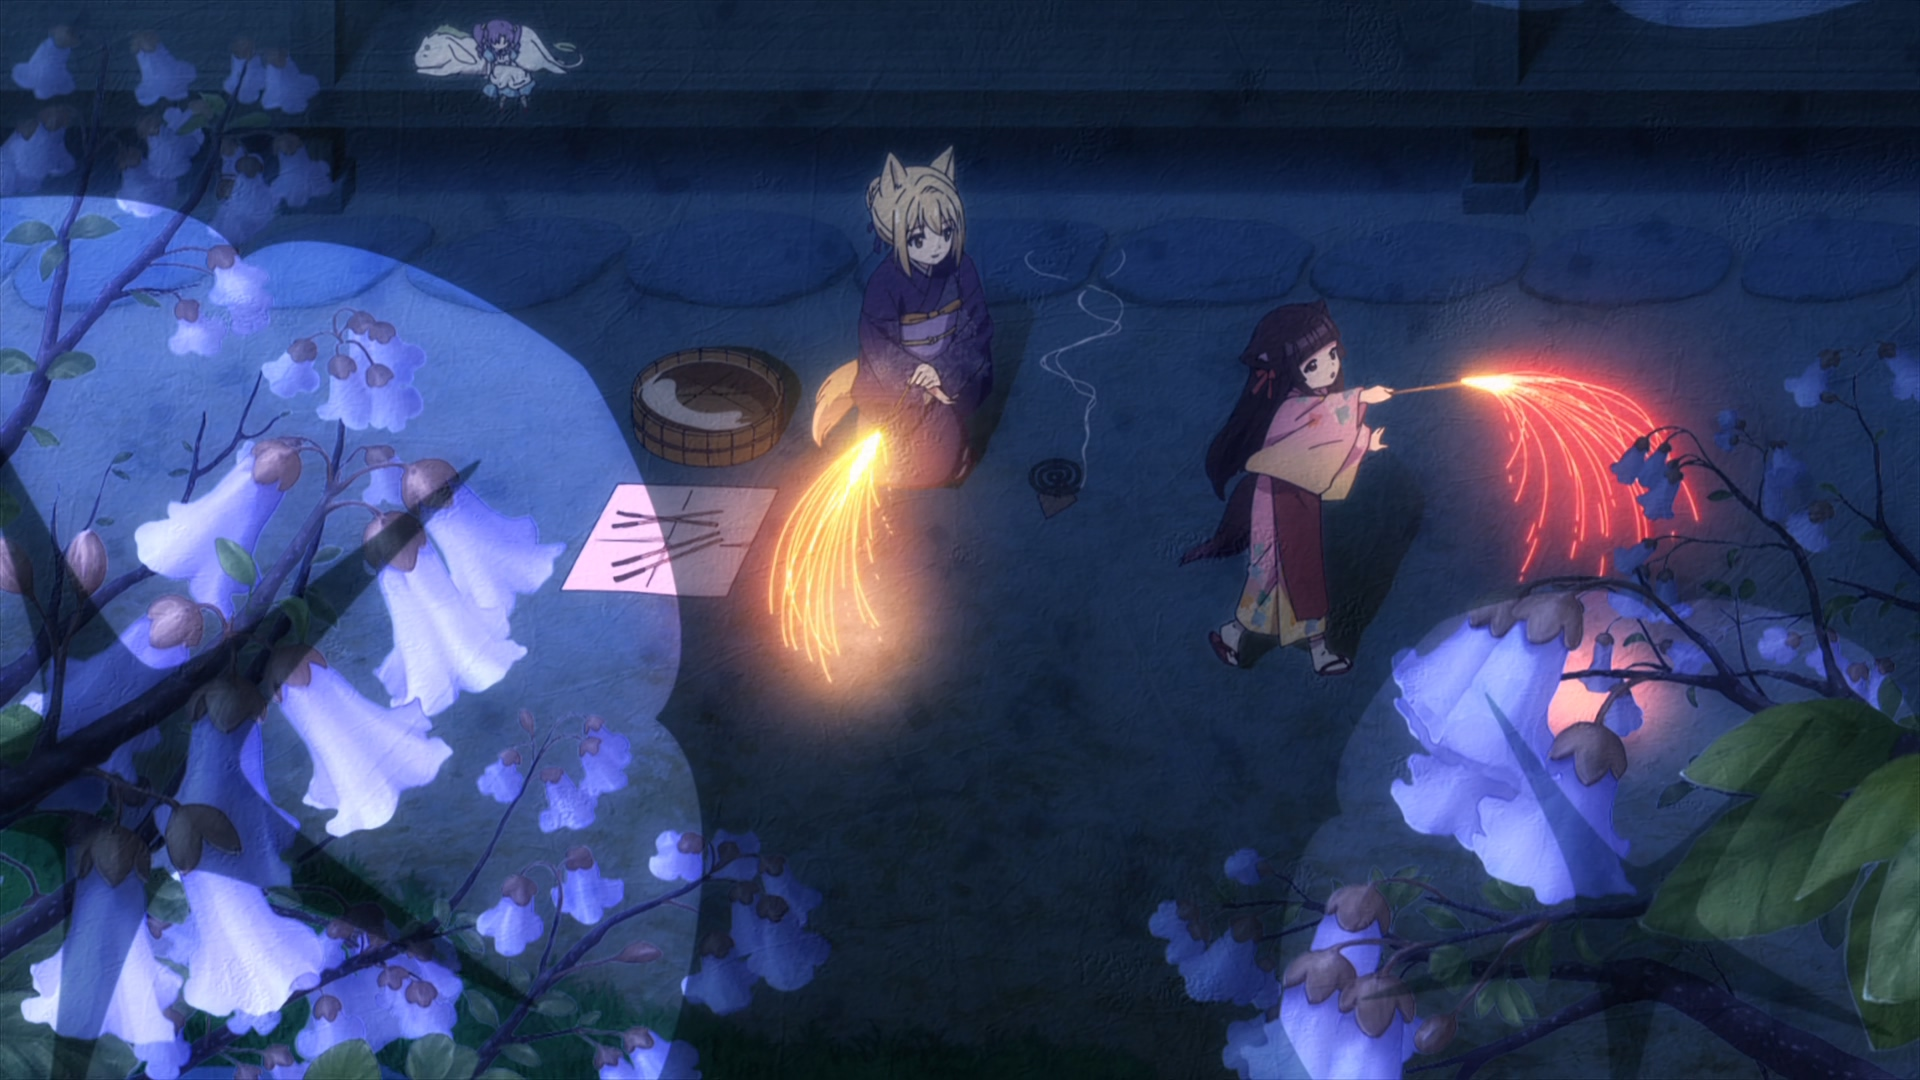桐: (814, 149, 984, 489)
樱: (1178, 301, 1393, 674)
